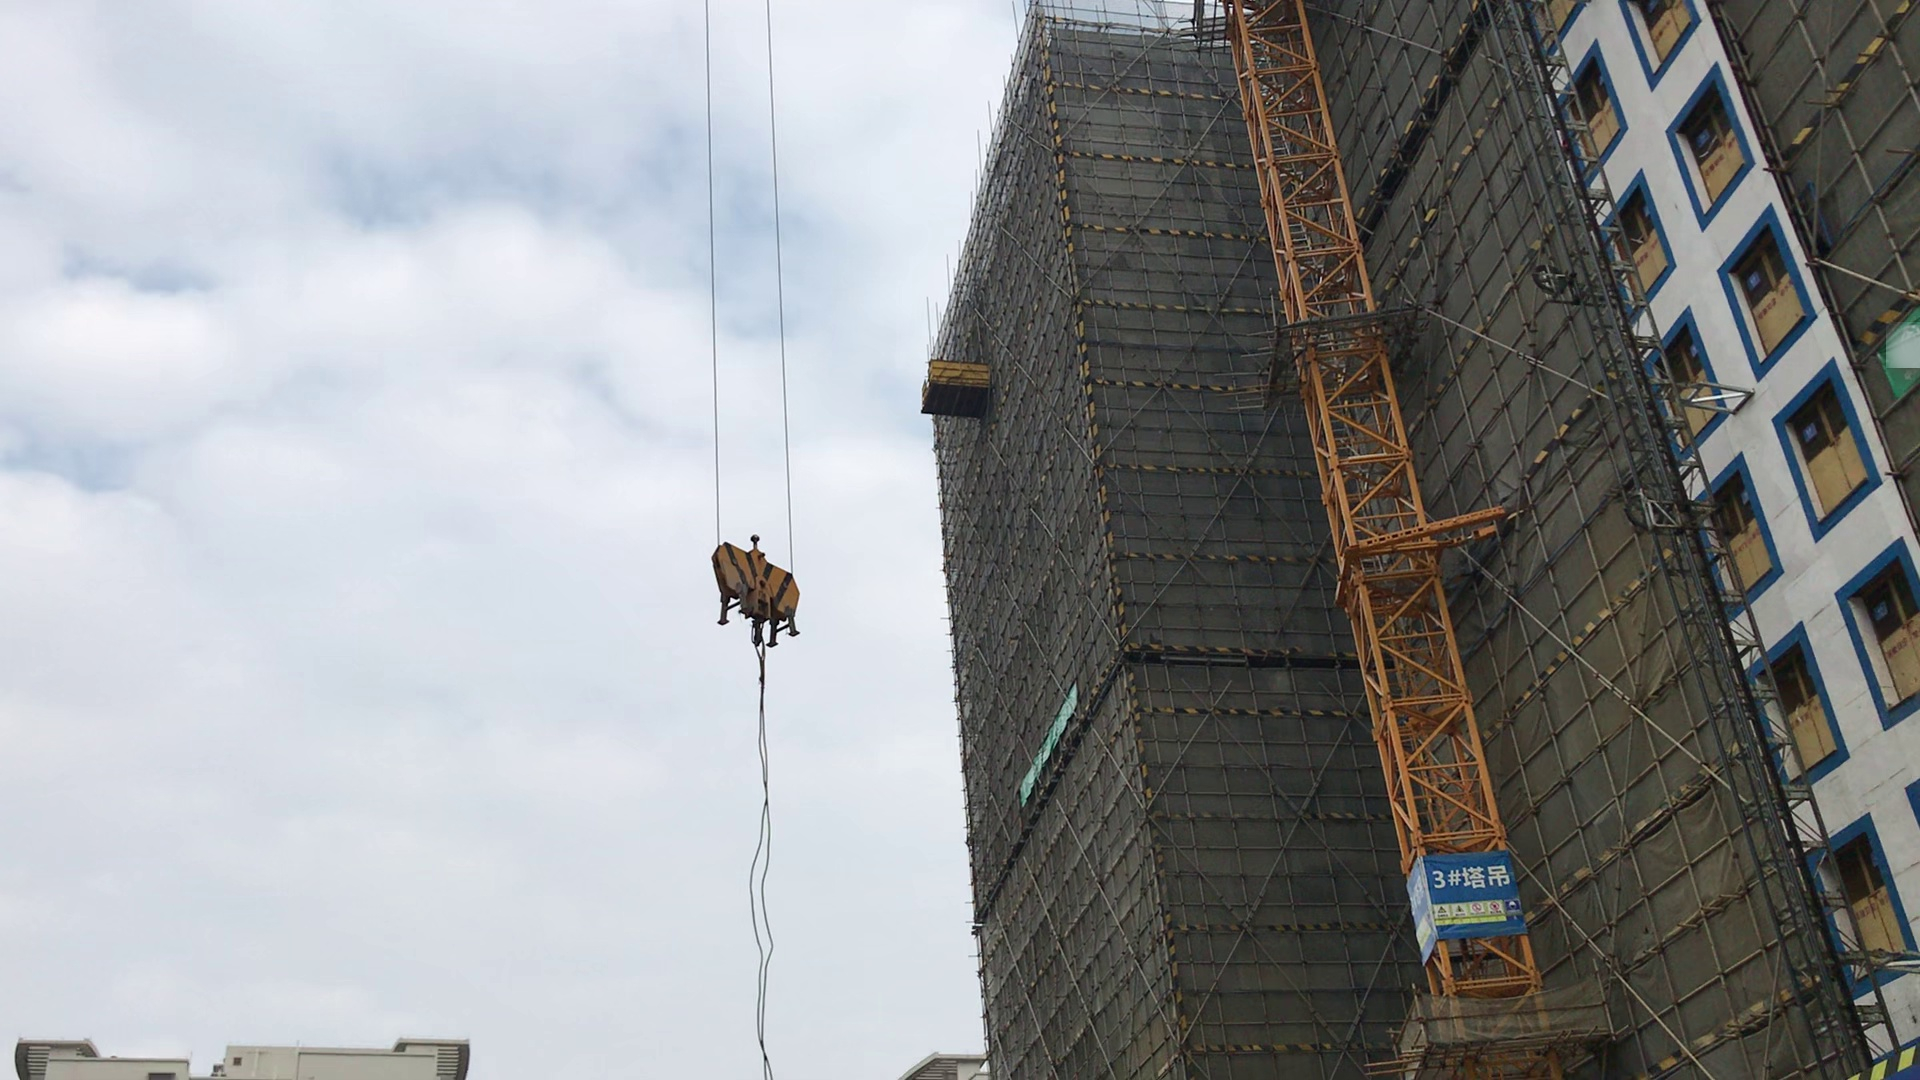hook: (705, 529, 804, 659)
